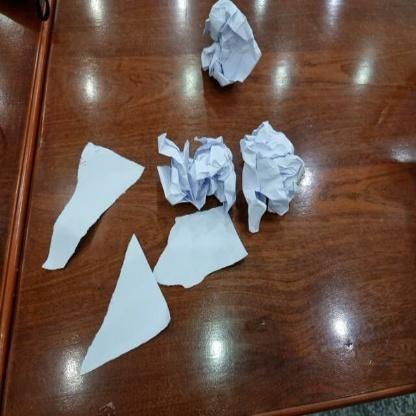trash: (77, 234, 173, 378), (42, 143, 144, 270), (150, 203, 251, 289), (236, 119, 307, 232), (152, 129, 240, 212), (196, 0, 263, 92)
